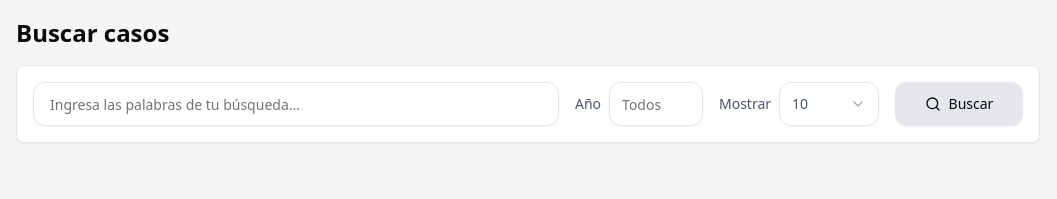
Scenario: <Search /> › shows empty state when query has zero hits
The image size is (1057, 199).
Expected: the heading "Buscar casos" is shown, [16,16,169,49]
In the search field with placeholder "Ingresa las palabras de tu búsqueda...": (296, 104) [33,82,559,126], type "nohits"
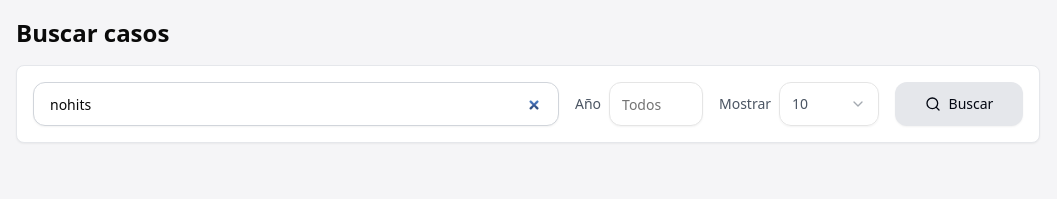
Click the button "Buscar": (959, 104) [895,82,1023,126]
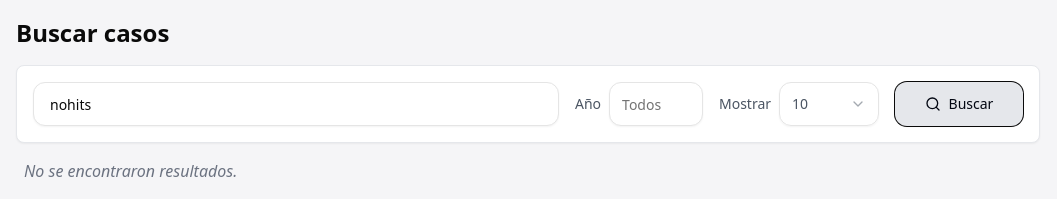
Now the text "No se encontraron resultados." is shown, box [24,160,237,182]
